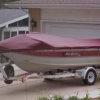Boat: (1, 28, 100, 92)
